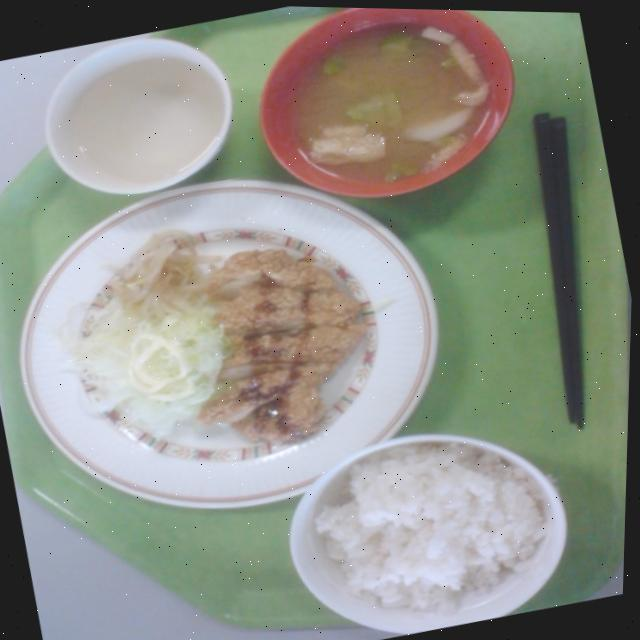汤锅炖物: (228, 4, 572, 232)
米饭主食: (284, 395, 583, 640)
蔬菜料理: (30, 214, 251, 450)
